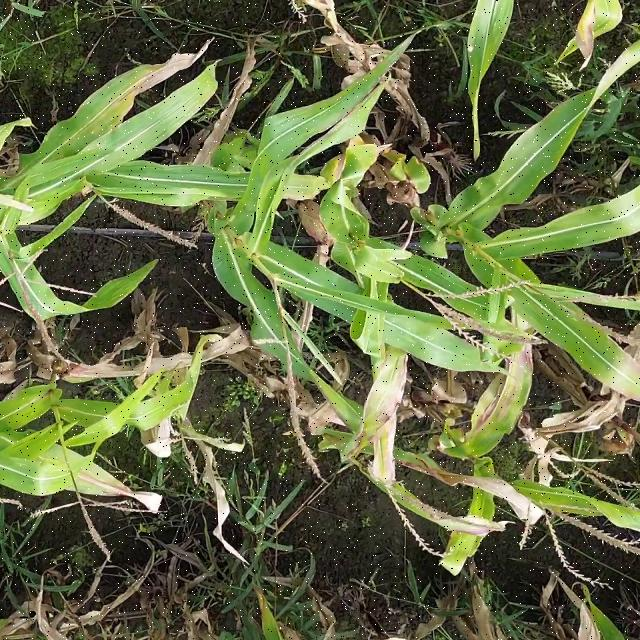northern-leaf-blight: (51, 55, 191, 151), (338, 331, 405, 490), (481, 311, 538, 450)
southern-leaf-blight: (244, 301, 302, 359)
